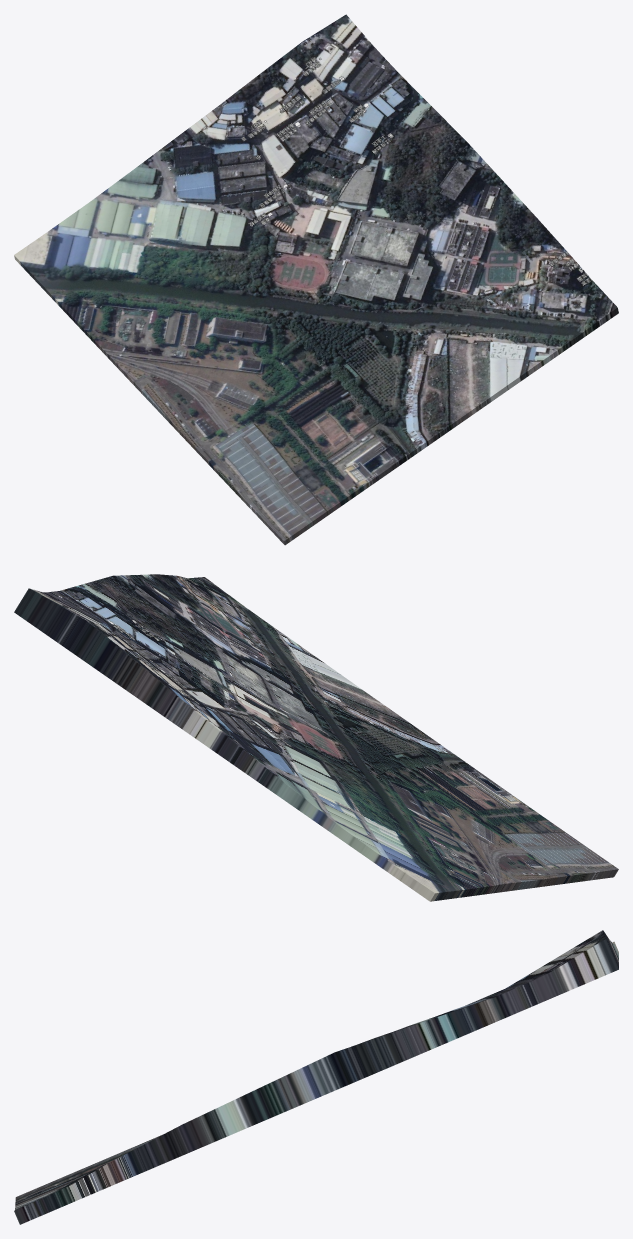
3 views of the same model, one above another, from view 1: azimuth 30°, elevation 25°; view 2: azimuth 150°, elevation 25°; view 3: azimuth 270°, elevation 25° (orthographic). The views are drawn at different scales.
Parts seen in each view (by area): view 1: 0_16_26; view 2: 0_16_26; view 3: 0_16_26.
Boxes of the visible parts, x1=… form: 0_16_26: x1=14, y1=14, x2=618, y2=545; 0_16_26: x1=14, y1=574, x2=618, y2=901; 0_16_26: x1=14, y1=930, x2=618, y2=1224.
Size of the model in its own units: 596 by 454 by 548.
1 material, 1 textured.
